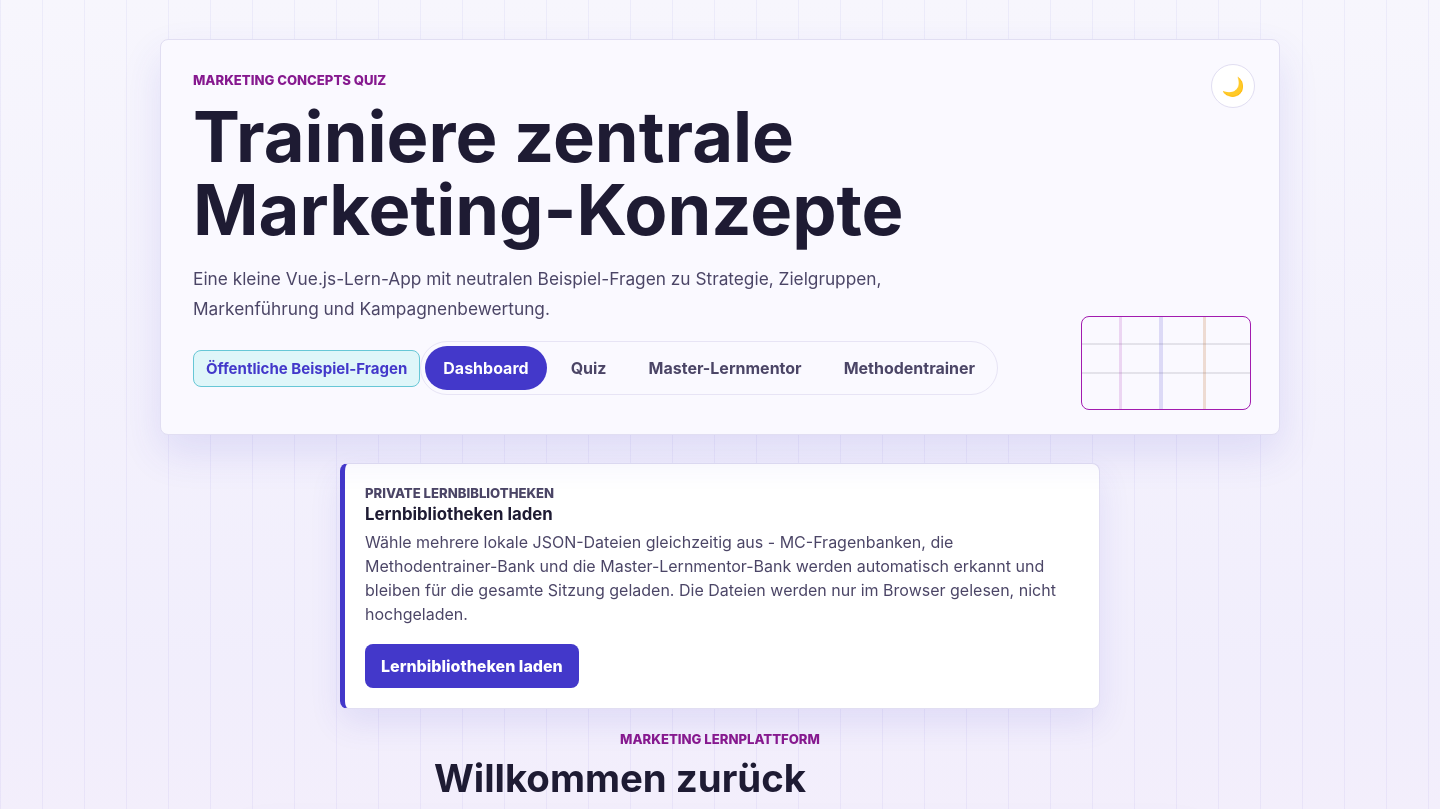
Master-Lernmentor-Navigation (Test 2) › öffnet den Master-Lernmentor über den Bereichs-Umschalter - ohne eigenen Uploadweg, mit Verweis auf den zentralen Loader
Click the tab "Master-Lernmentor" at (725, 368), box [630, 346, 820, 390]
(page scrolled)
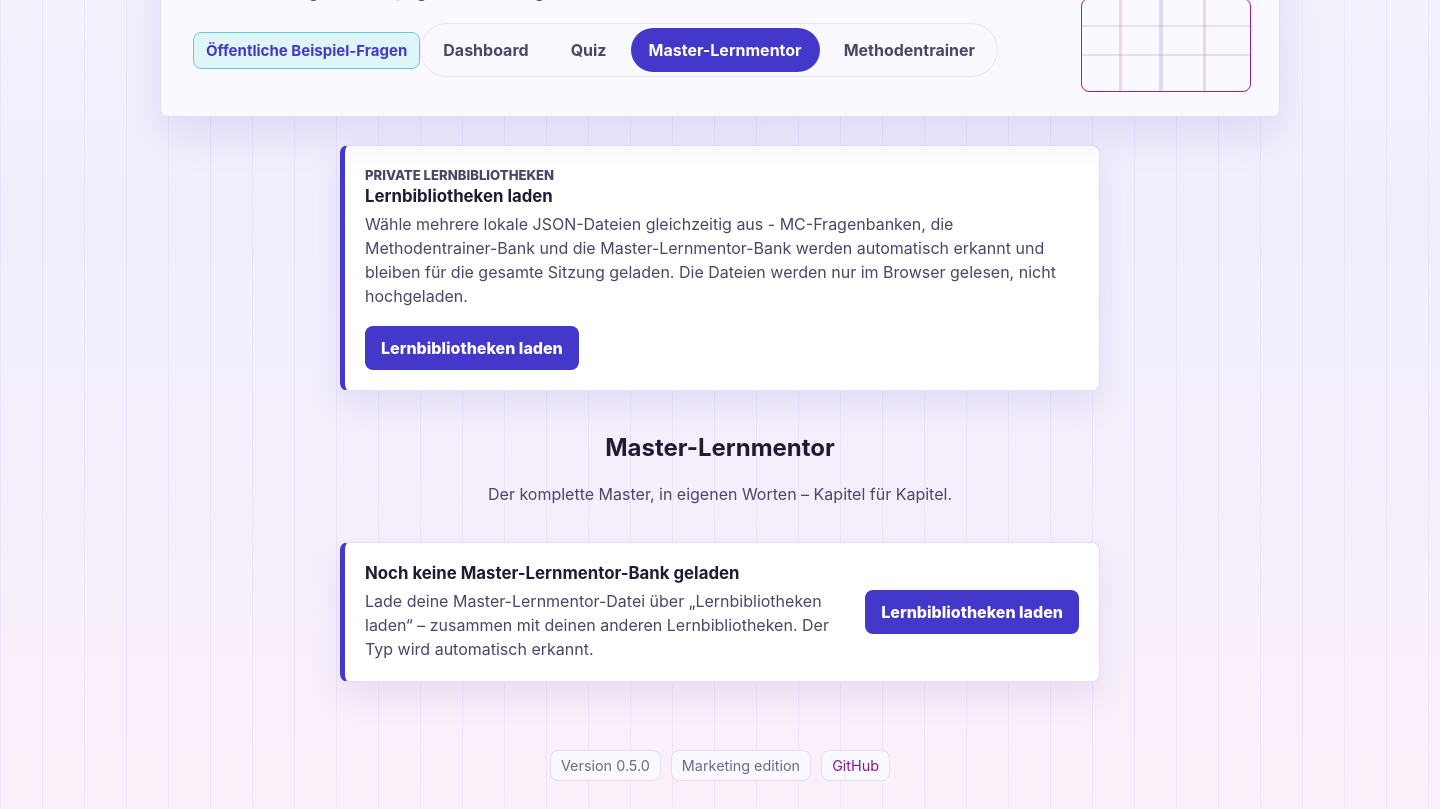
Now the element with class "master-lernmentor" is shown, box [340, 433, 1100, 682]
Now the text "Noch keine Master-Lernmentor-Bank geladen" is shown, box [365, 563, 739, 583]
